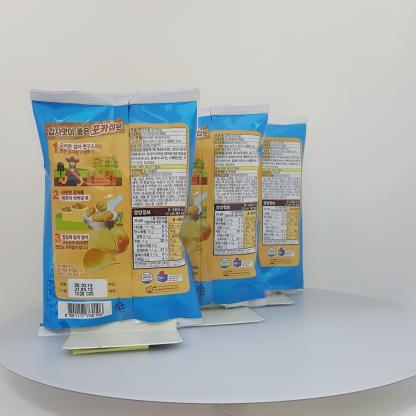Plastic Packaging: (20, 73, 198, 337), (196, 98, 272, 310), (264, 121, 312, 298)
